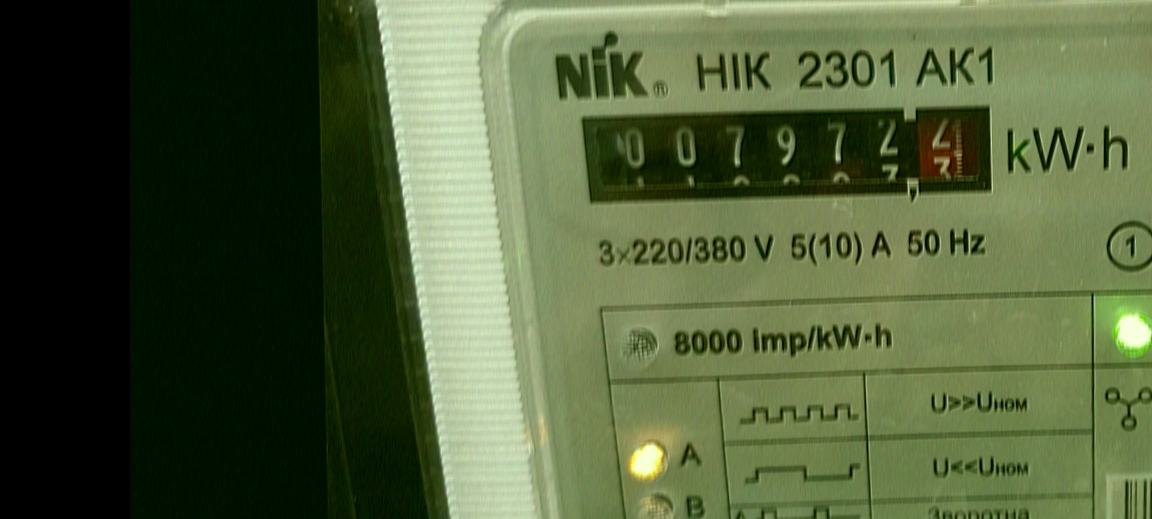0: (622, 125, 649, 167), (674, 123, 699, 166)
2: (877, 117, 901, 156), (929, 116, 952, 150)
3: (931, 154, 954, 179)
7: (825, 119, 851, 165), (724, 122, 749, 167)
9: (775, 122, 798, 165)
screen: (566, 93, 1010, 217)
